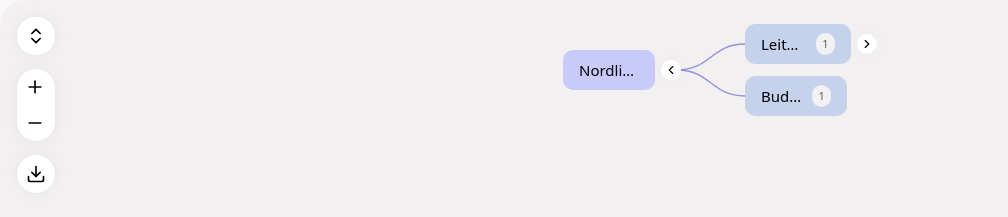
it: MindmapView › opens and closes a branch with its toggle
Click the button named "„Leitung“ aufklappen" at (867, 44), box top-left (857, 34), bottom-right (877, 54)
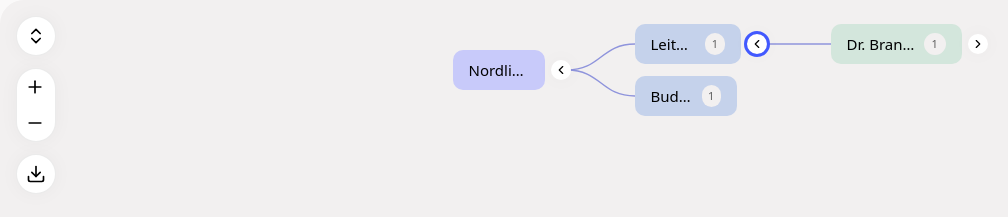
Expected: the text "Dr. Brandt" is shown, top-left (846, 34), bottom-right (916, 54)
Click the button named "„Leitung“ zuklappen" at (756, 44), box top-left (746, 34), bottom-right (766, 54)
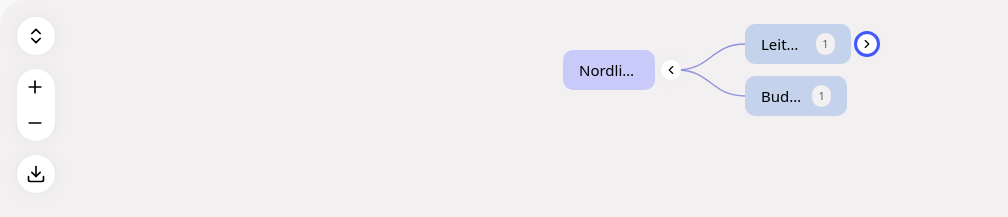
Expected: the text "Dr. Brandt" is gone
